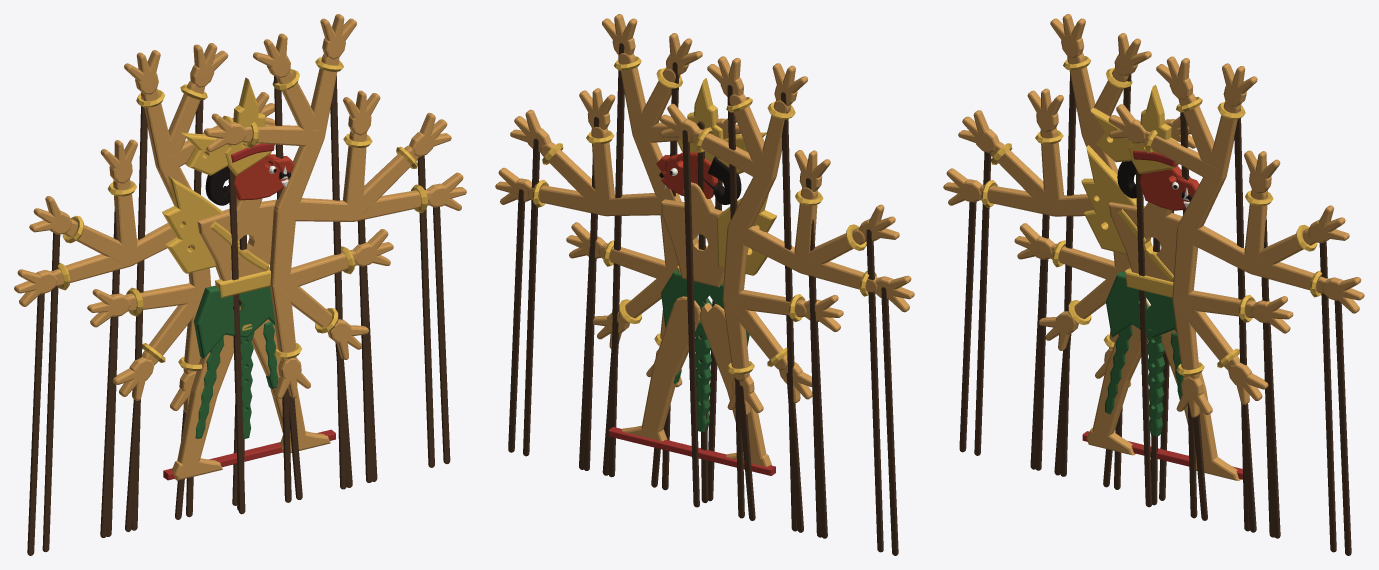
File: rahwana.glb
3 renders of one model, left to right at view 1: azimuth 30°, elevation 25°; view 2: azimuth 150°, elevation 25°; view 3: azimuth 330°, elevation 25°, orthographic. The views are drawn at different scales.
Visible parts, largest first — view 1: body, front_20, head, front_10, back_10, back_20, front_00, front_11, front_22, back_11, front_12, back_12 (+8 smaller); view 2: body, back_20, front_20, back_10, front_10, back_22, front_11, back_00, back_11, front_12, back_21, back_02 (+8 smaller); view 3: body, front_20, front_10, head, back_20, back_10, front_22, front_00, back_11, front_11, back_12, front_12 (+8 smaller).
Part boxes in pixels (<box>): body: <box>162,175,335,510</box>; front_20: <box>274,14,356,489</box>; head: <box>181,77,294,205</box>; front_10: <box>274,172,466,463</box>; back_10: <box>14,222,181,555</box>; back_20: <box>124,50,191,530</box>; front_00: <box>269,202,310,499</box>; front_11: <box>348,112,451,467</box>; front_22: <box>204,113,321,514</box>; back_11: <box>29,196,137,551</box>; front_12: <box>343,90,380,482</box>; back_12: <box>100,139,137,536</box>; body: <box>608,121,776,503</box>; back_20: <box>728,63,807,531</box>; front_20: <box>602,14,681,477</box>; back_10: <box>728,224,914,555</box>; front_10: <box>495,167,680,452</box>; back_22: <box>659,103,772,507</box>; front_11: <box>510,109,609,456</box>; back_00: <box>722,223,763,520</box>; back_11: <box>794,204,899,552</box>; front_12: <box>579,88,615,470</box>; back_21: <box>707,56,773,518</box>; back_02: <box>724,290,843,538</box>; body: <box>1081,145,1242,505</box>; front_20: <box>1177,63,1257,531</box>; front_10: <box>1177,223,1364,555</box>; head: <box>1091,85,1199,210</box>; back_20: <box>1050,14,1118,476</box>; back_10: <box>943,168,1099,452</box>; front_22: <box>1108,104,1222,507</box>; front_00: <box>1172,223,1212,520</box>; back_11: <box>958,110,1058,455</box>; front_11: <box>1244,205,1349,552</box>; back_12: <box>1027,88,1063,470</box>; front_12: <box>1244,150,1280,537</box>.
Size of the model in its own units: 1.59 by 1.65 by 0.1558.
